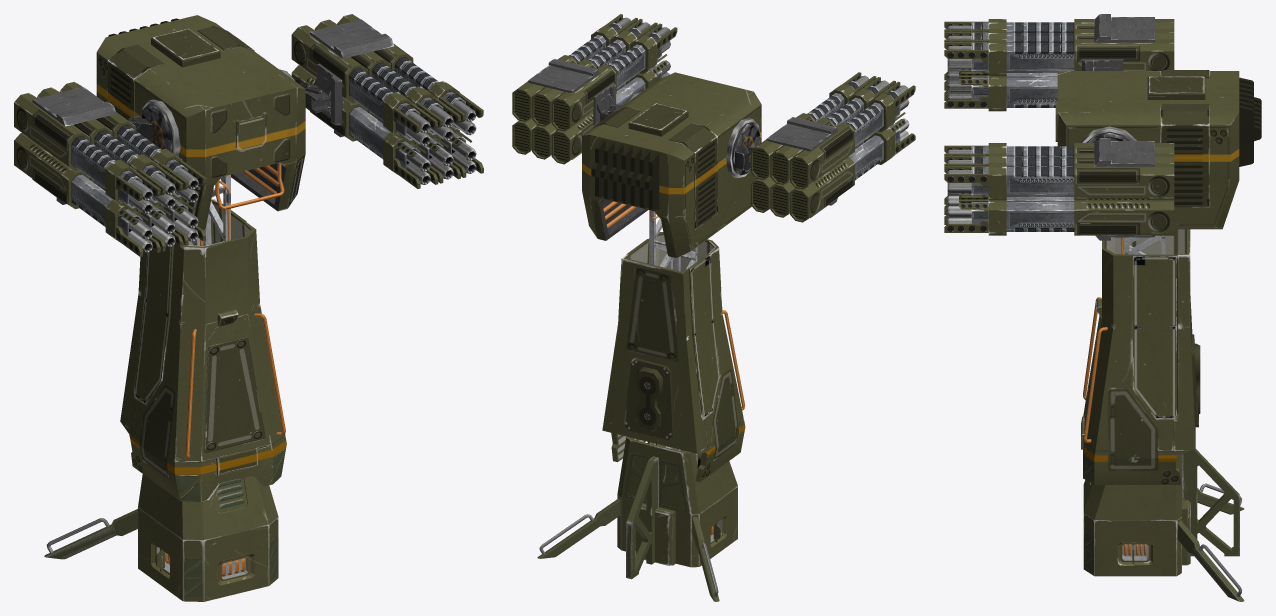
The model's file is turret_tower_08.fbx.
3 renders of one model, left to right at view 1: azimuth 30°, elevation 25°; view 2: azimuth 150°, elevation 25°; view 3: azimuth 270°, elevation 25°, orthographic. The views are drawn at different scales.
Visible parts, largest first — view 1: body, top (×2), head, tower_base, bottom (×2), tower_body_door_right, decor3 (×2), tower_head_door_right, decor4, tower_leg, decor2, body_frame (+5 smaller); view 2: body, top (×2), head, tower_base, bottom (×2), decor3 (×2), tower_leg, tower_body_door_right, tower_body_door_rear, tower_head_door_right, decor4, body_frame (+2 smaller); view 3: top (×2), body, bottom (×2), head, tower_base, tower_body_door_left, tower_leg, decor3 (×2), tower_head_door_left, decor4, tower_body_door_rear, body_frame (+2 smaller).
Part boxes in pixels (bbox=[...]): body: bbox=[120, 199, 286, 501]; top (×2): bbox=[14, 14, 483, 215]; head: bbox=[96, 15, 305, 229]; tower_base: bbox=[138, 474, 278, 601]; bottom (×2): bbox=[14, 65, 483, 256]; tower_body_door_right: bbox=[134, 245, 173, 404]; decor3 (×2): bbox=[32, 18, 220, 126]; tower_head_door_right: bbox=[107, 44, 164, 119]; decor4: bbox=[310, 19, 393, 58]; tower_leg: bbox=[44, 509, 137, 559]; decor2: bbox=[305, 63, 342, 125]; body_frame: bbox=[191, 174, 230, 246]; body: bbox=[602, 232, 745, 482]; top (×2): bbox=[512, 14, 915, 189]; head: bbox=[582, 72, 761, 257]; tower_base: bbox=[617, 436, 737, 567]; bottom (×2): bbox=[512, 59, 915, 222]; decor3 (×2): bbox=[591, 103, 838, 210]; tower_leg: bbox=[537, 456, 719, 601]; tower_body_door_right: bbox=[688, 253, 720, 417]; tower_body_door_rear: bbox=[624, 359, 674, 439]; tower_head_door_right: bbox=[669, 123, 717, 229]; decor4: bbox=[528, 58, 600, 93]; body_frame: bbox=[649, 210, 697, 465]; top (×2): bbox=[944, 19, 1174, 200]; body: bbox=[1083, 229, 1195, 484]; bottom (×2): bbox=[944, 68, 1174, 235]; head: bbox=[1057, 71, 1239, 229]; tower_base: bbox=[1083, 454, 1190, 576]; tower_body_door_left: bbox=[1133, 254, 1176, 419]; tower_leg: bbox=[1177, 449, 1244, 601]; decor3 (×2): bbox=[1094, 14, 1261, 166]; tower_head_door_left: bbox=[1161, 104, 1209, 207]; decor4: bbox=[1094, 138, 1154, 166]; tower_body_door_rear: bbox=[1191, 334, 1200, 427]; body_frame: bbox=[1121, 235, 1165, 254].
Size of the model in its own units: 11.23 by 15.97 by 9.78.
